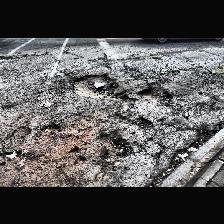pothole: (145, 131, 223, 186), (72, 74, 120, 99), (102, 137, 134, 157), (138, 86, 172, 104)
